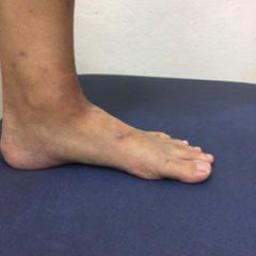Medial View -Left Foot-: (1, 67, 224, 202)
